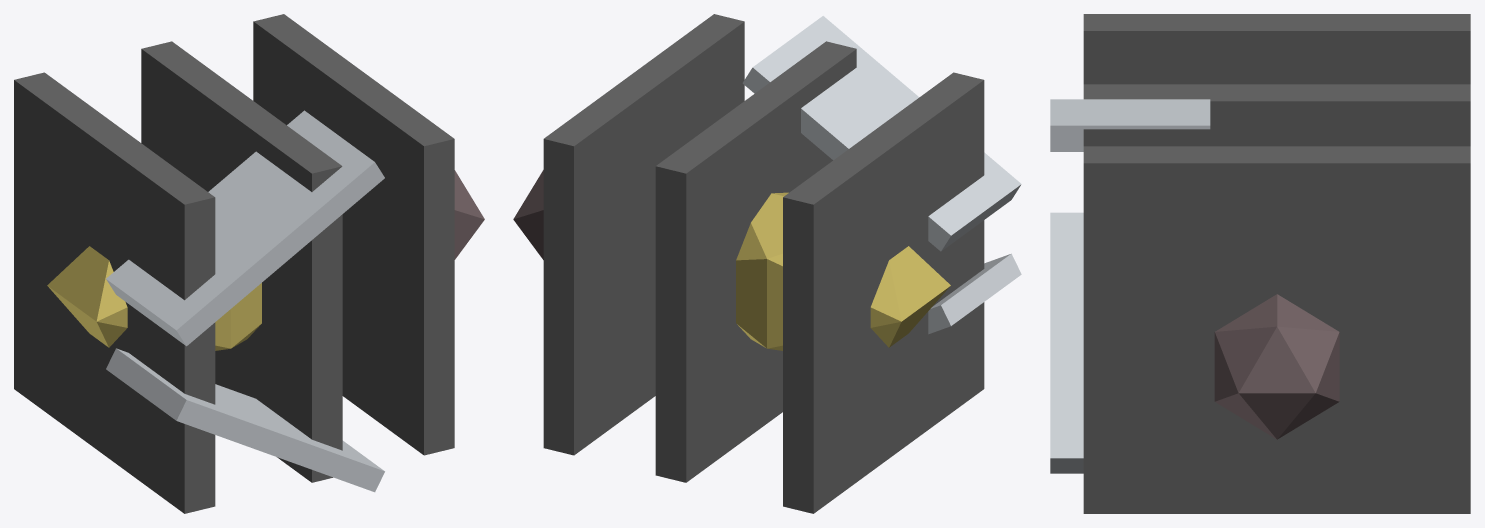
File: honeybee.glb
3 renders of one model, left to right at view 1: azimuth 30°, elevation 25°; view 2: azimuth 150°, elevation 25°; view 3: azimuth 270°, elevation 25°, orthographic. The views are drawn at different scales.
Parts seen in each view (by area): view 1: world; view 2: world; view 3: world.
Part boxes in pixels (box(x1,y1,x2,y2)): world: box(14, 14, 484, 513); world: box(513, 14, 1021, 513); world: box(1050, 14, 1470, 513).
Size of the model in its own units: 0.7775 by 0.6196 by 0.63.
